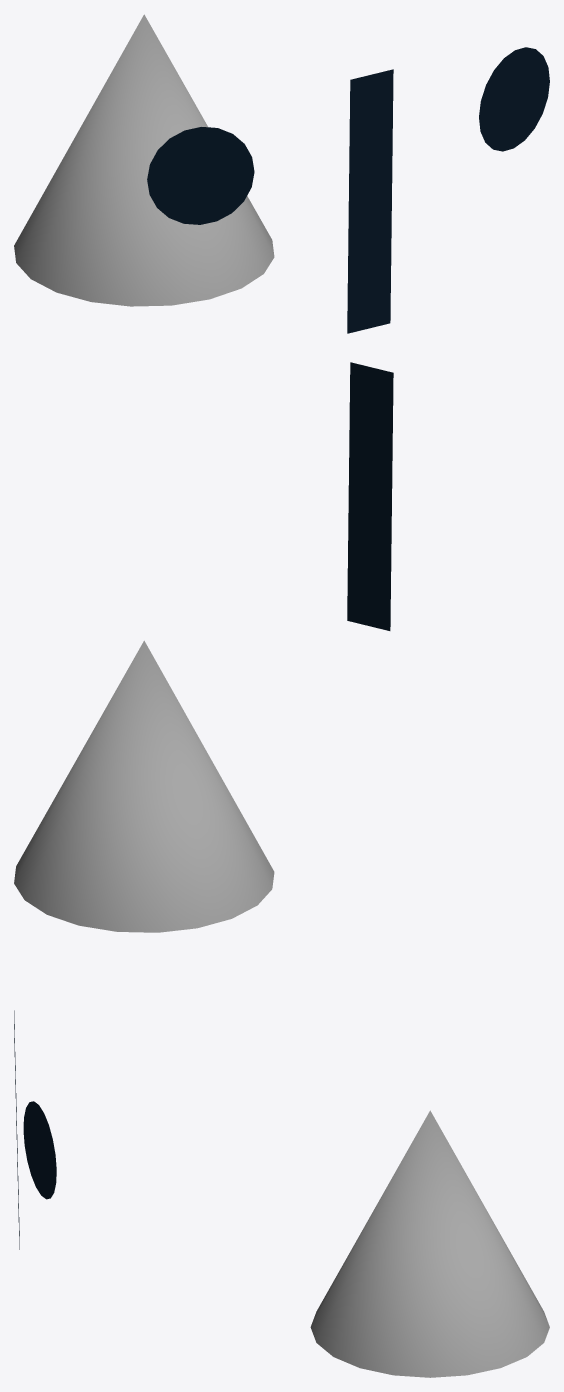
File: Template.fbx
The picture shows the model from 3 angles, top to bottom: view 1: azimuth 30°, elevation 25°; view 2: azimuth 150°, elevation 25°; view 3: azimuth 270°, elevation 25°; orthographic projection. The views are drawn at different scales.
Visible parts, largest first — view 1: pCone1, mesh_face1; view 2: pCone1, mesh_face1; view 3: pCone1, mesh_face1.
Boxes of the visible parts, <box> form: pCone1: <box>14,14,274,306</box>; mesh_face1: <box>147,47,549,333</box>; pCone1: <box>14,640,274,932</box>; mesh_face1: <box>347,362,393,630</box>; pCone1: <box>310,1110,549,1377</box>; mesh_face1: <box>14,1010,56,1249</box>.
Bounding box in the file's own units: 3.55 × 2.9 × 4.48.
